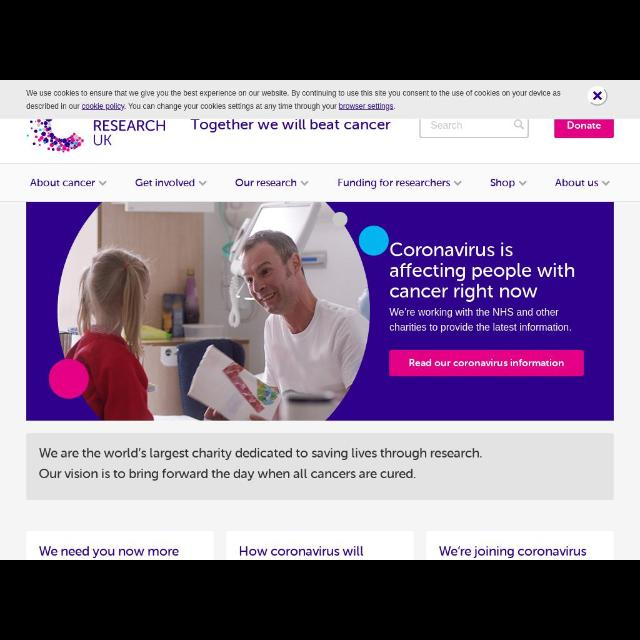backgroundimage: (26, 203, 614, 419)
icon: (512, 120, 526, 132), (98, 177, 108, 187), (198, 180, 208, 188), (453, 180, 463, 188), (518, 180, 528, 188), (602, 178, 610, 188), (299, 180, 309, 187)
iframe: (1, 82, 639, 118)
input: (422, 120, 528, 138)
link: (82, 103, 124, 111), (340, 104, 394, 110)
spinner: (334, 176, 464, 194), (28, 174, 110, 192), (232, 175, 310, 193), (134, 175, 208, 193), (551, 177, 613, 195), (485, 176, 529, 194)
text: (34, 446, 483, 479), (389, 241, 575, 303), (388, 307, 572, 333), (188, 118, 392, 134), (439, 545, 587, 559), (92, 120, 166, 146), (37, 545, 181, 557), (239, 545, 365, 557), (336, 178, 449, 190), (30, 177, 94, 187), (236, 178, 296, 188), (554, 178, 598, 190), (135, 180, 195, 188), (429, 122, 461, 130), (490, 178, 514, 188)
textbutton: (388, 349, 584, 377), (554, 119, 614, 138)
toolbar: (2, 167, 640, 200)
